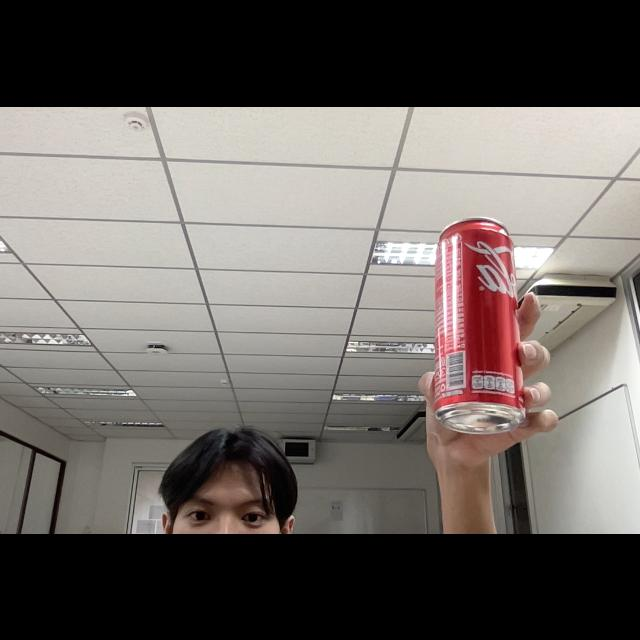can: (432, 213, 528, 435)
